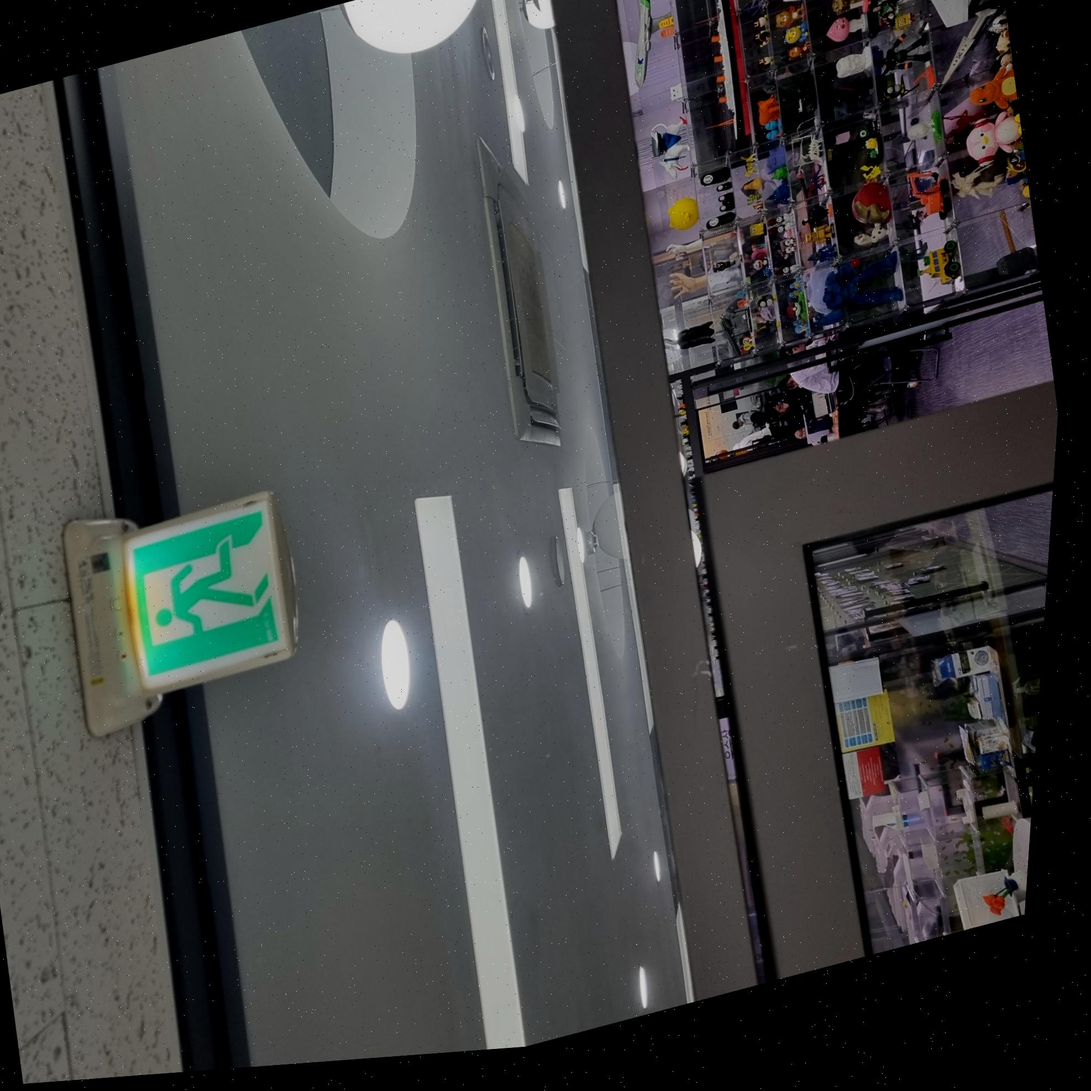emergency_exit: (121, 489, 299, 695)
